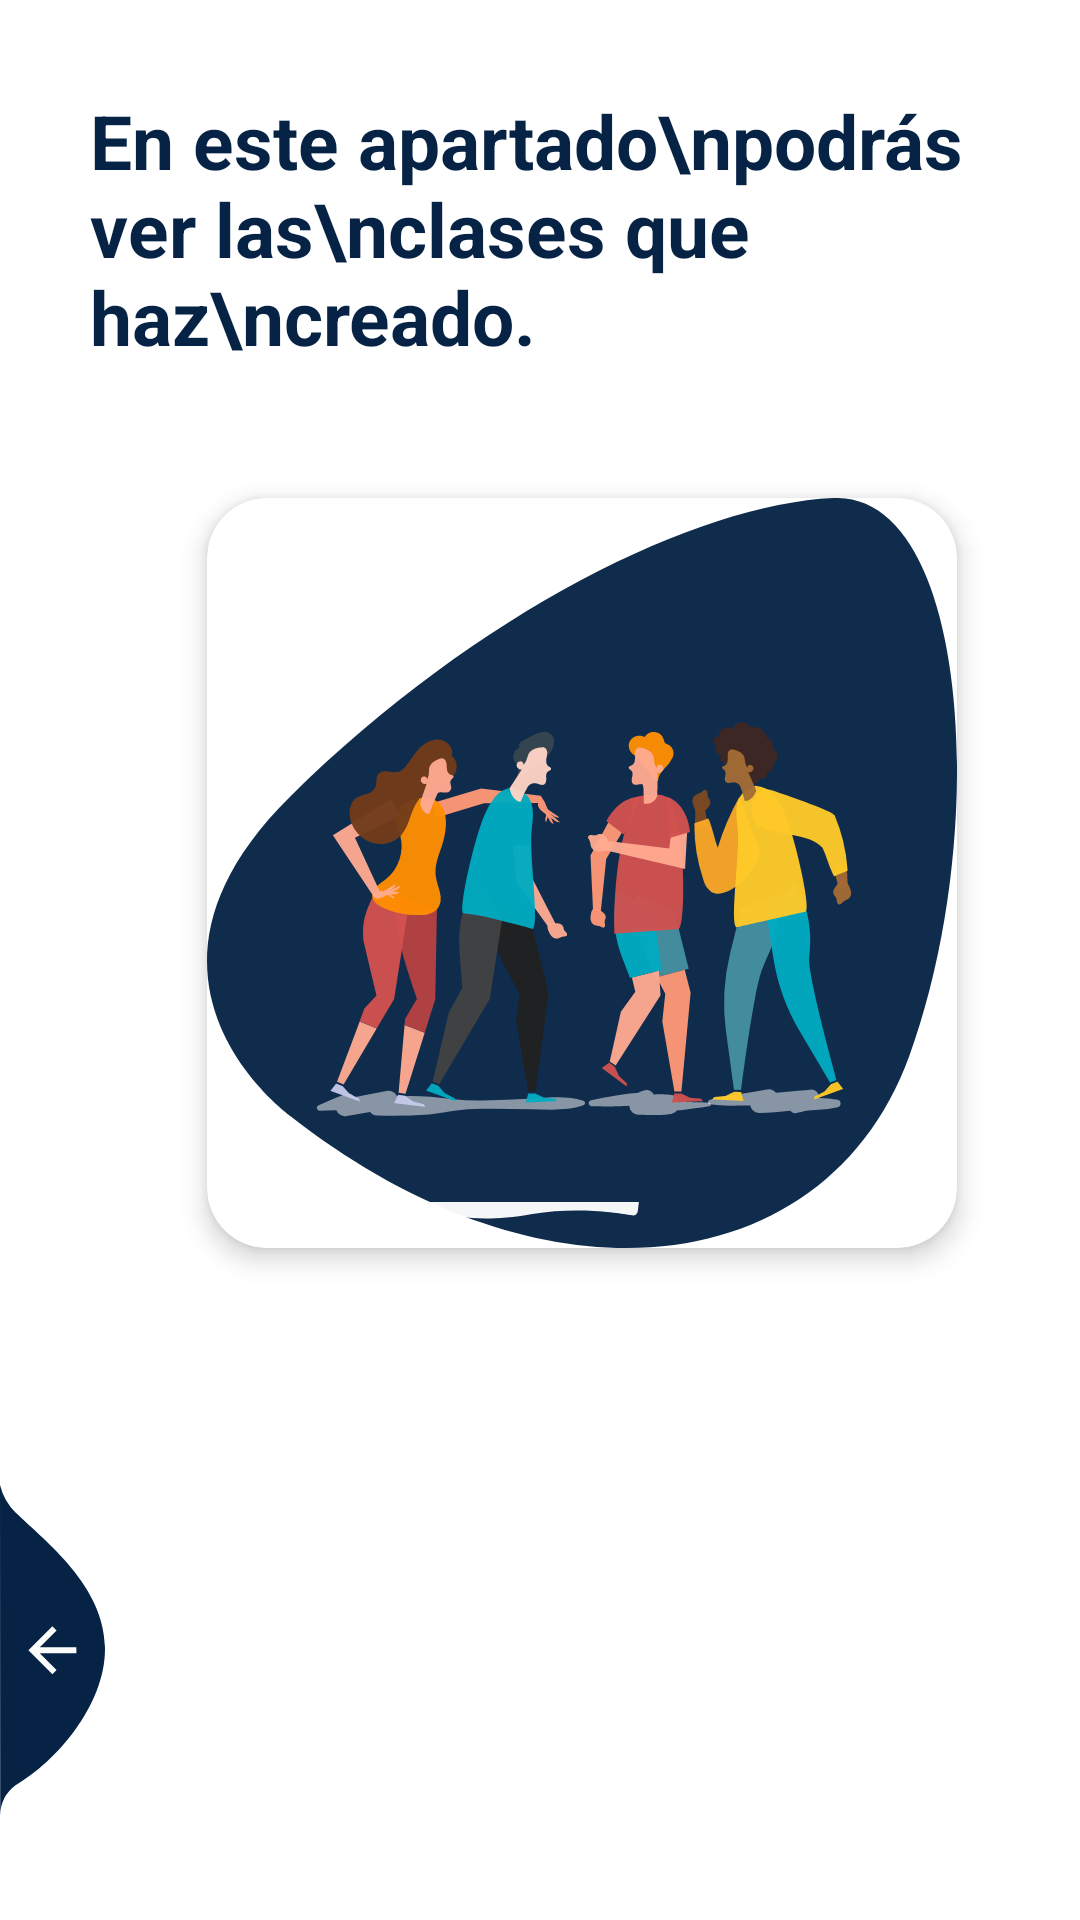

Icon bounding boxes for this 1080w x 1920h phone screenshot, format (x1, y1, x2, y2):
back verde: (0, 1485, 105, 1814)
